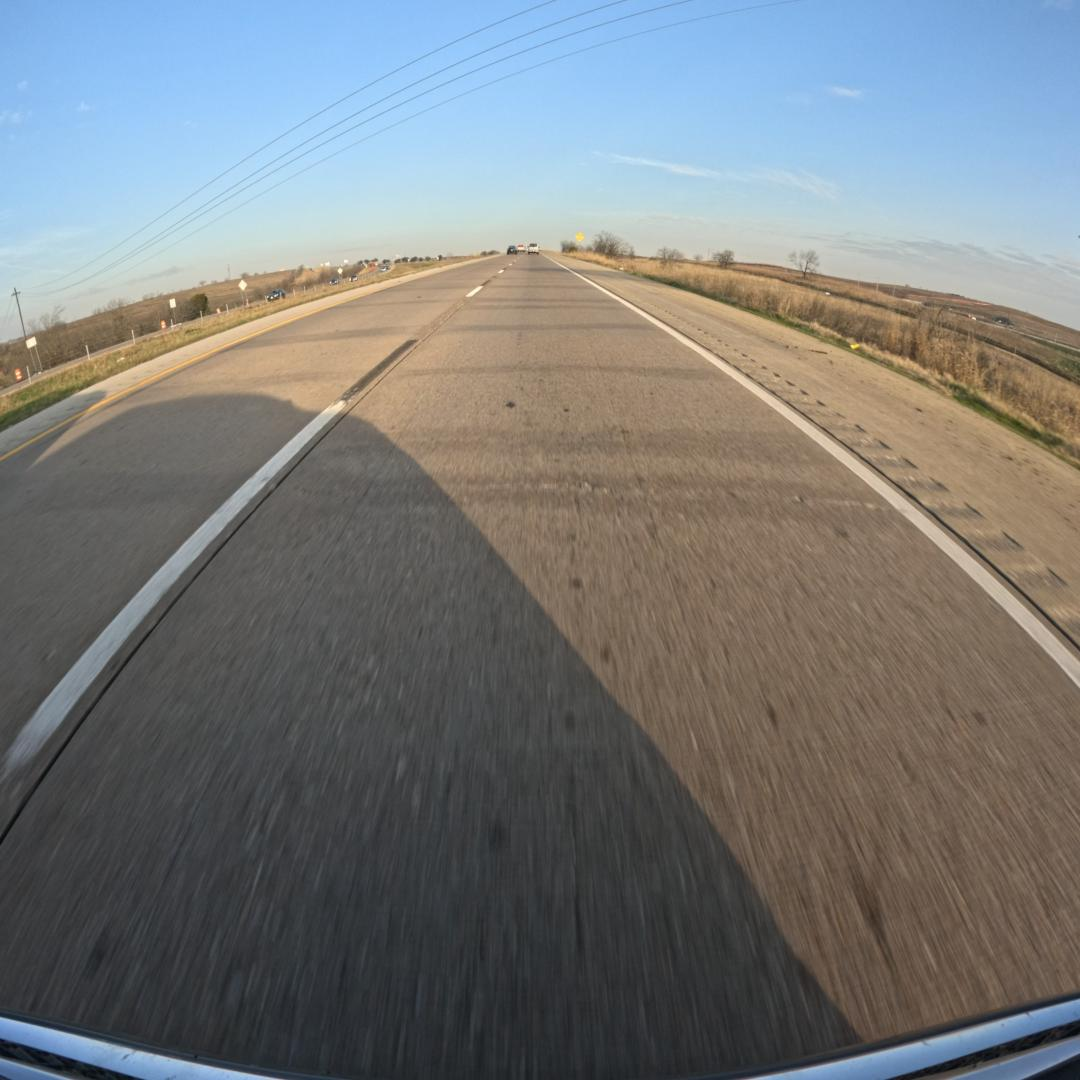lane0: (0, 258, 1080, 1076)
lane1: (0, 259, 510, 834)
